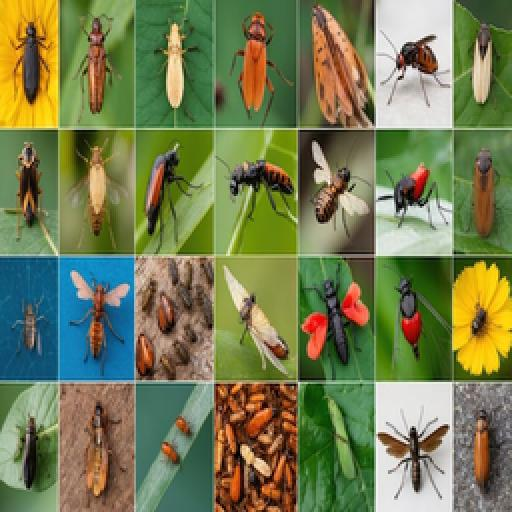insects: (214, 382, 296, 512), (138, 264, 210, 374), (310, 6, 374, 124), (220, 266, 290, 372), (378, 404, 450, 502), (302, 270, 370, 366), (308, 140, 370, 242), (68, 270, 130, 366), (142, 144, 200, 242), (316, 394, 362, 508), (226, 160, 300, 224), (386, 34, 444, 112), (232, 14, 276, 114), (78, 138, 118, 234), (12, 20, 54, 110), (12, 140, 48, 242), (390, 164, 442, 232), (78, 398, 112, 502), (78, 14, 112, 116), (14, 414, 58, 492), (158, 20, 194, 112), (466, 20, 498, 112), (468, 148, 500, 240), (396, 274, 426, 370), (12, 292, 50, 358), (468, 416, 498, 498), (160, 414, 196, 468), (472, 300, 500, 350)
